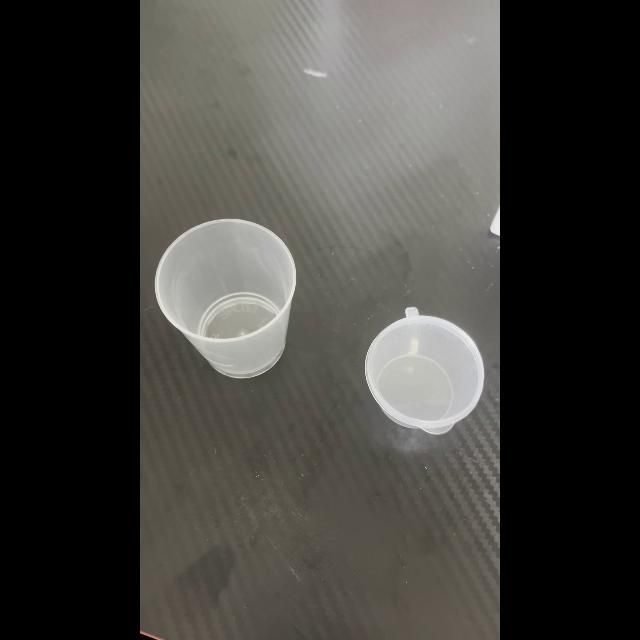clean: (153, 219, 297, 375), (364, 311, 486, 434)
